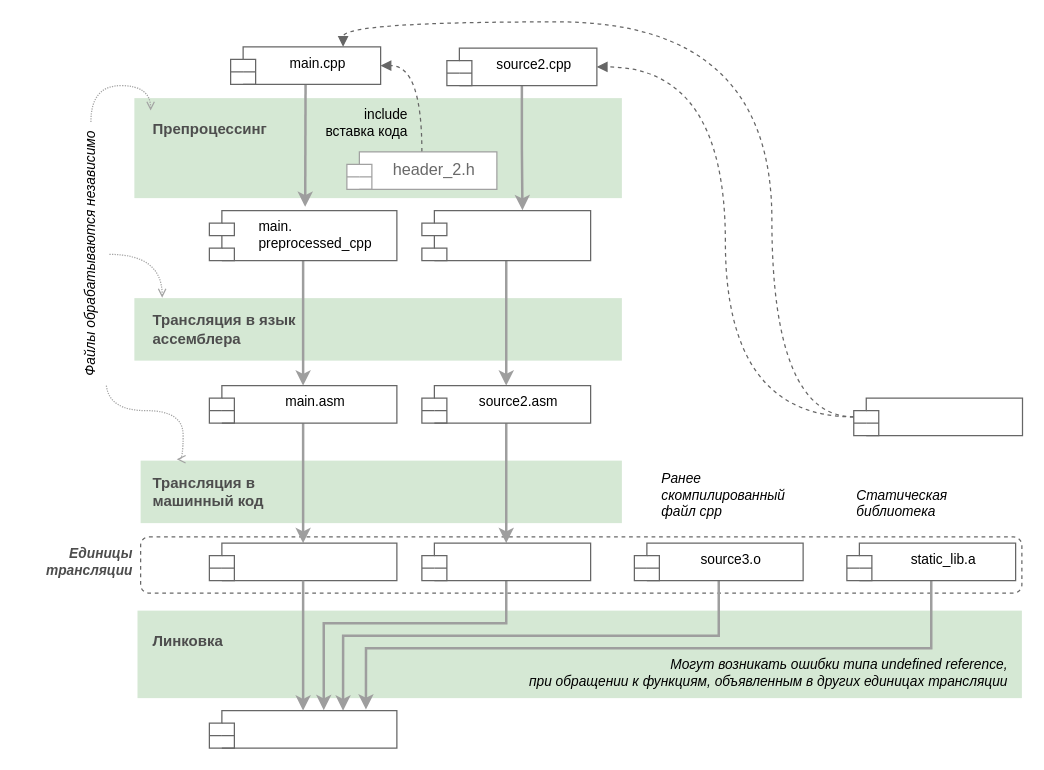
Image size: 1044x770. Some labels were removed from this diagram. The centre of each missing label's shape, as x and y in pixels:
executable: [302,728]
main.o: [302,561]
source2. preprocessed_cpp: [506,235]
source2.o: [506,561]
static_lib.h: [937,416]
